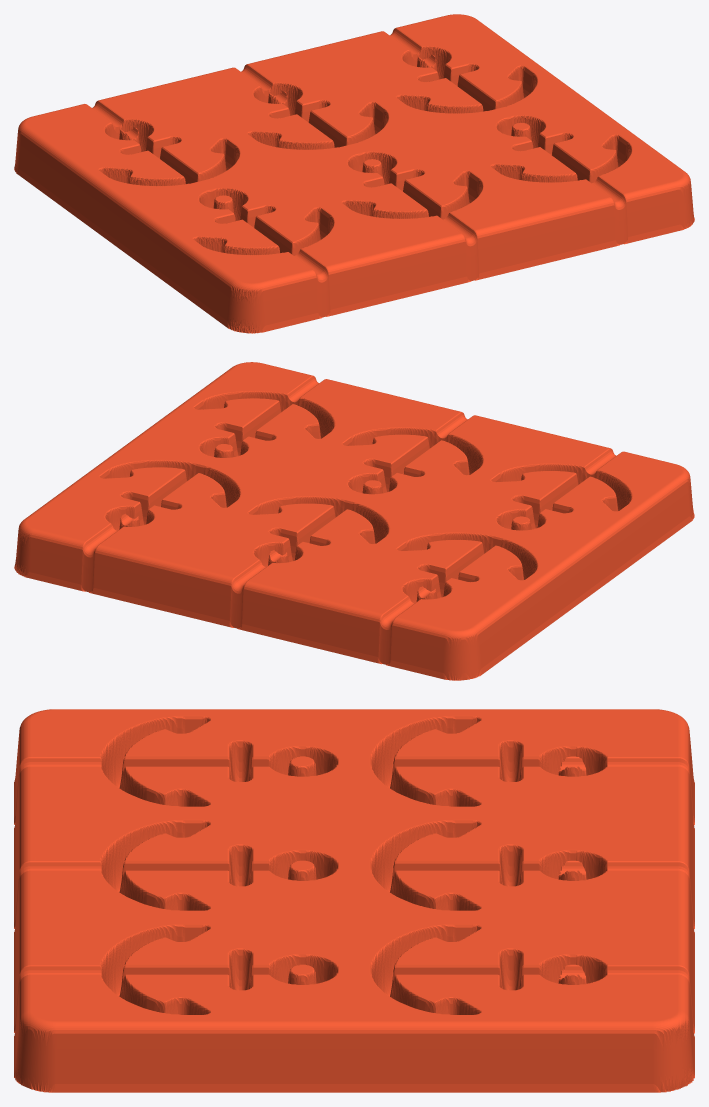
File: mold.glb
3 renders of one model, top to bottom at view 1: azimuth 30°, elevation 25°; view 2: azimuth 150°, elevation 25°; view 3: azimuth 270°, elevation 25°, orthographic. The views are drawn at different scales.
Parts seen in each view (by area): view 1: geometry_0; view 2: geometry_0; view 3: geometry_0.
Boxes of the visible parts, x1,y1,x2,y2 form: geometry_0: [14, 14, 694, 333]; geometry_0: [14, 362, 694, 680]; geometry_0: [14, 709, 694, 1092].
Bounding box in the file's own units: 0.1668 × 0.0155 × 0.1477.
